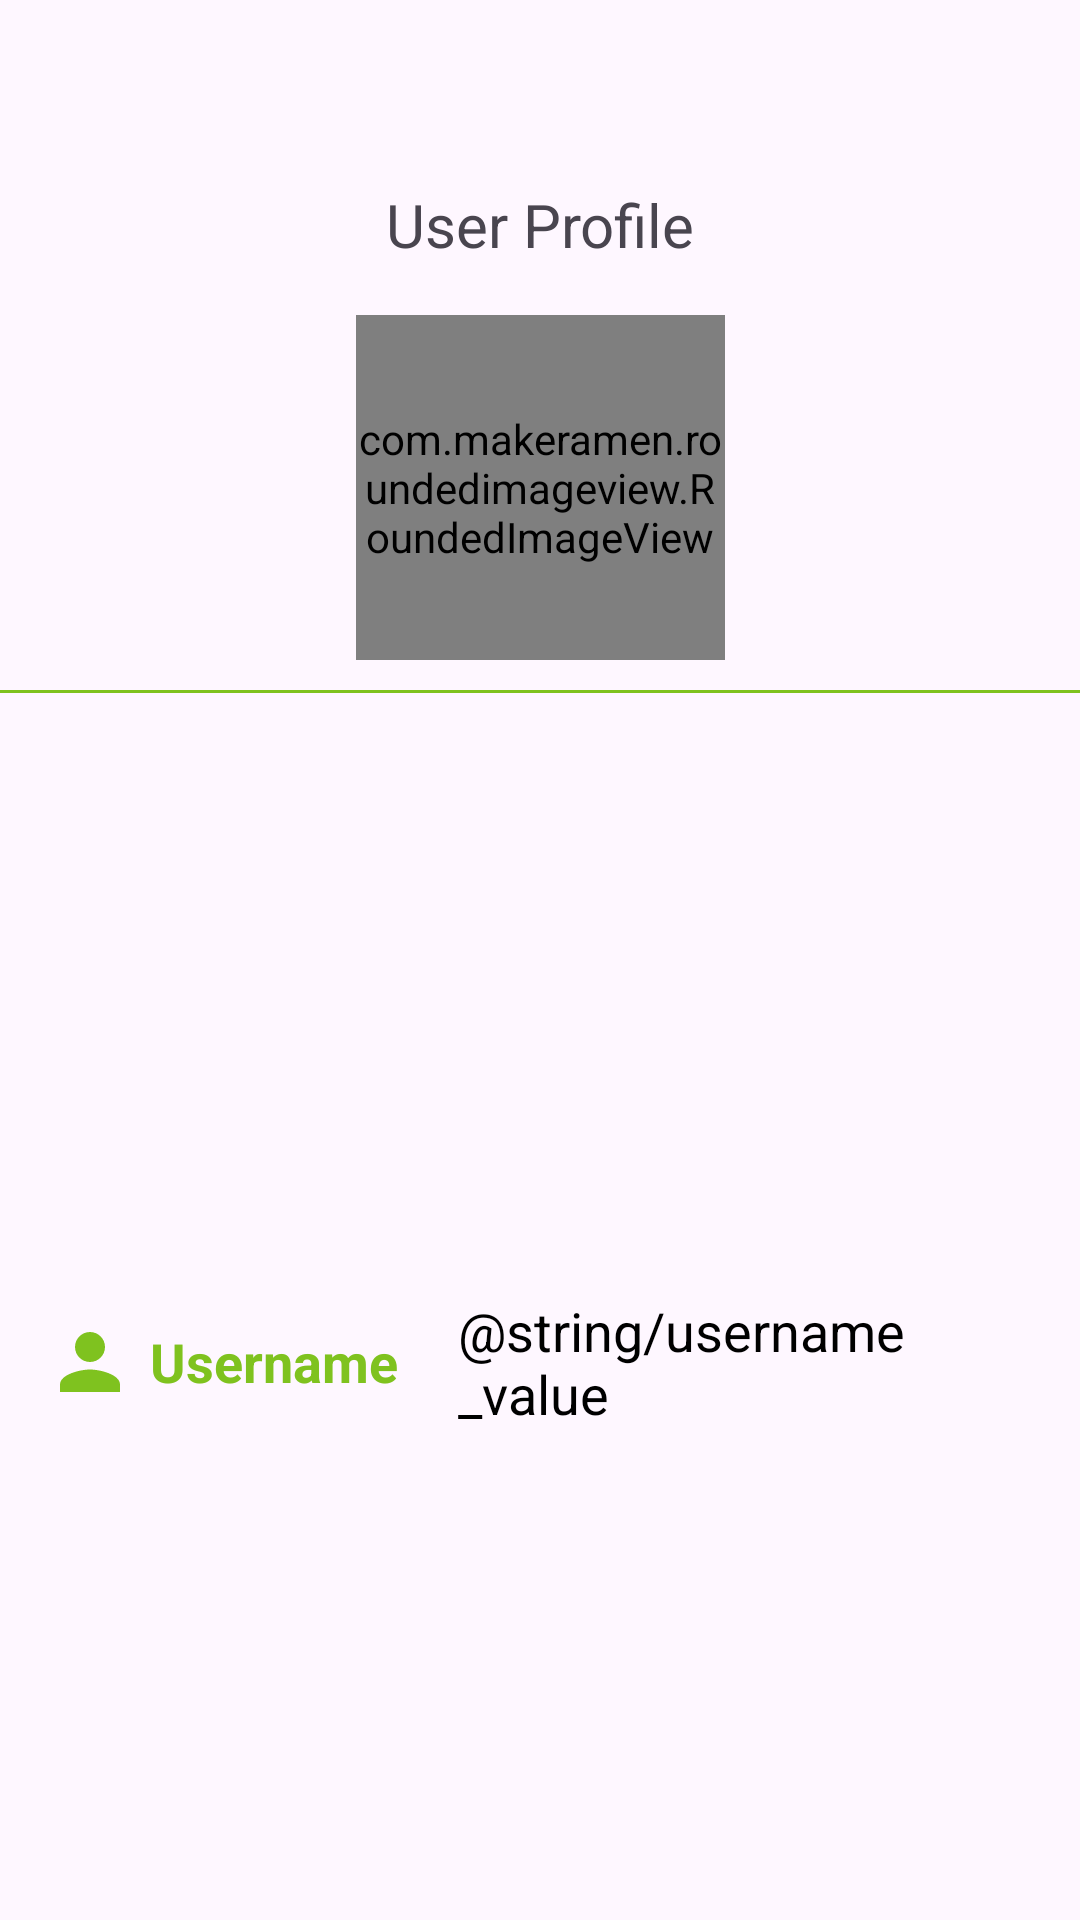

Icon click points for this 1080×1920 phone screenshot, format (x=x, y=y):
person: (x=90, y=1362)
